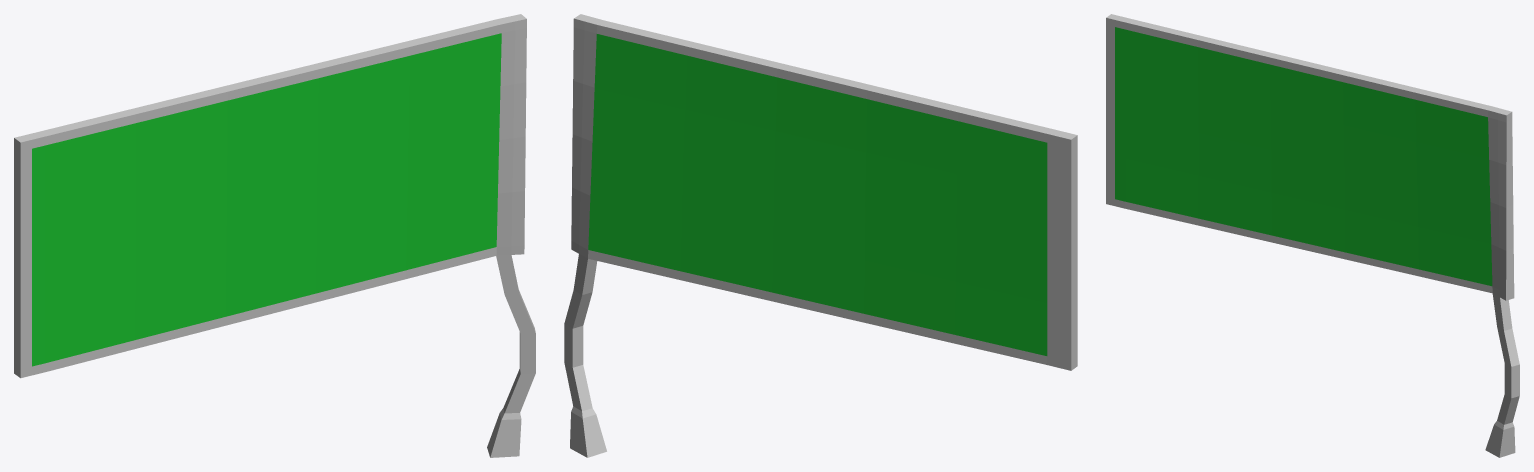
The model's file is RoadSign.fbx.
3 renders of one model, left to right at view 1: azimuth 30°, elevation 25°; view 2: azimuth 150°, elevation 25°; view 3: azimuth 330°, elevation 25°, orthographic. The views are drawn at different scales.
Parts seen in each view (by area): view 1: Cube; view 2: Cube; view 3: Cube.
Part boxes in pixels (x1,y1,x2,y2): Cube: (14, 14, 535, 457); Cube: (564, 14, 1077, 457); Cube: (1106, 14, 1519, 457).
Bounding box in the file's own units: 4607 × 3690 × 277.
